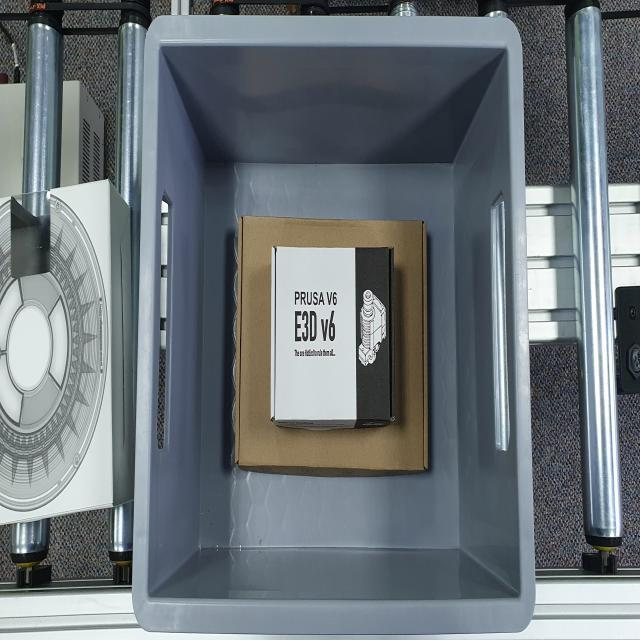box: (236, 214, 428, 476), (269, 245, 397, 424)
